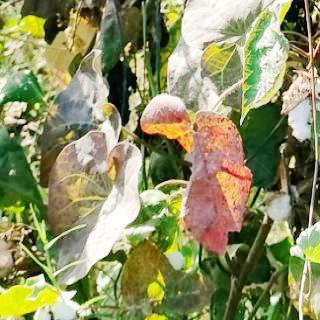blight: (135, 85, 271, 259)
